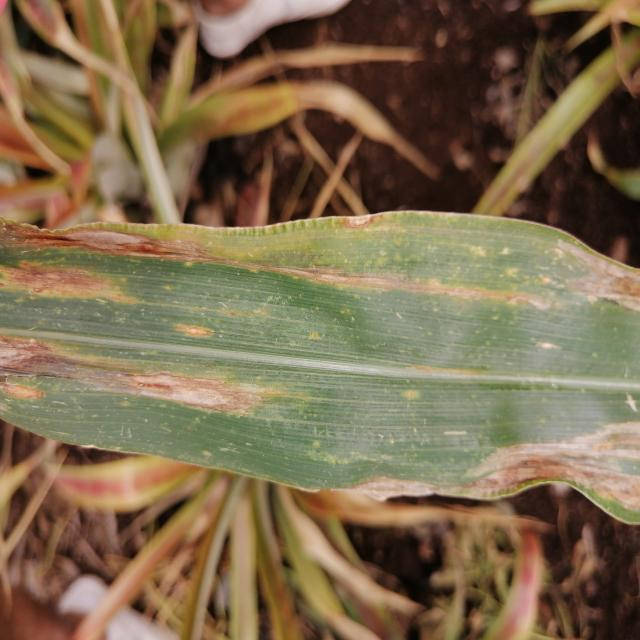Corn_Leaf_Blight: (1, 200, 640, 532)
